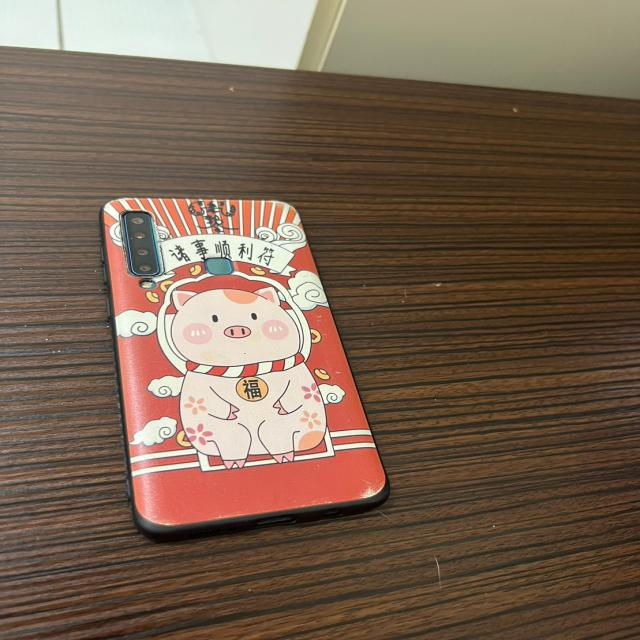Smartphone: (100, 198, 389, 541)
